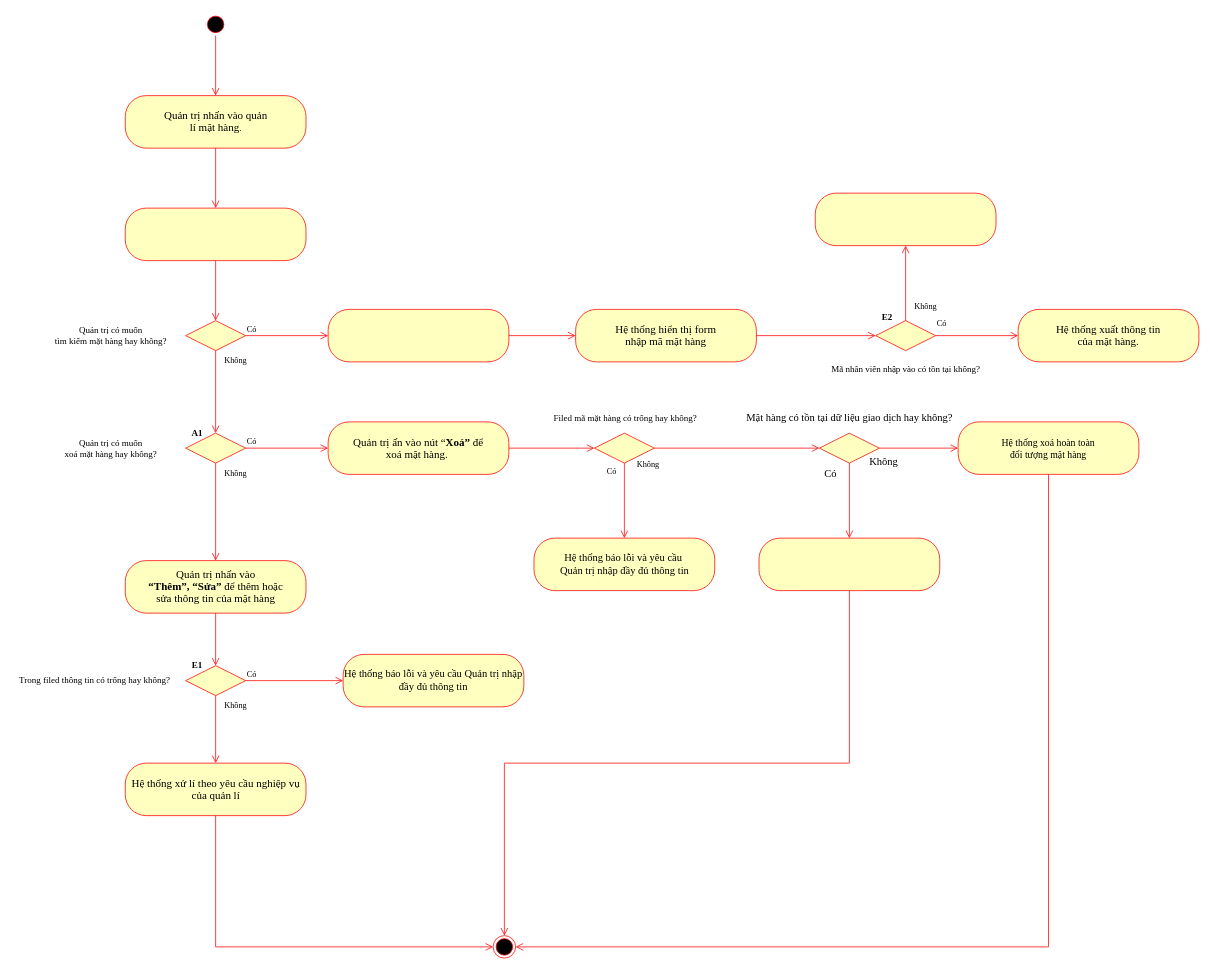
This 1212x971 diagram has some shape labels left out. The centre of each missing label's shape, as x and y in pixels:
A2: point 215,335
E3: point 624,447
Hệ thống chuyển đổi đối tượng trạng thái từ Còn bán thành Ngưng bán: point 849,564
Hệ thống hiển thị danh sách mặt hàng .: point 215,234
Hệ thống yêu cầu nhập lại mã mặt hàng: point 905,219
Quản trị nhấn vào “ Tìm kiếm ”.: point 418,335
